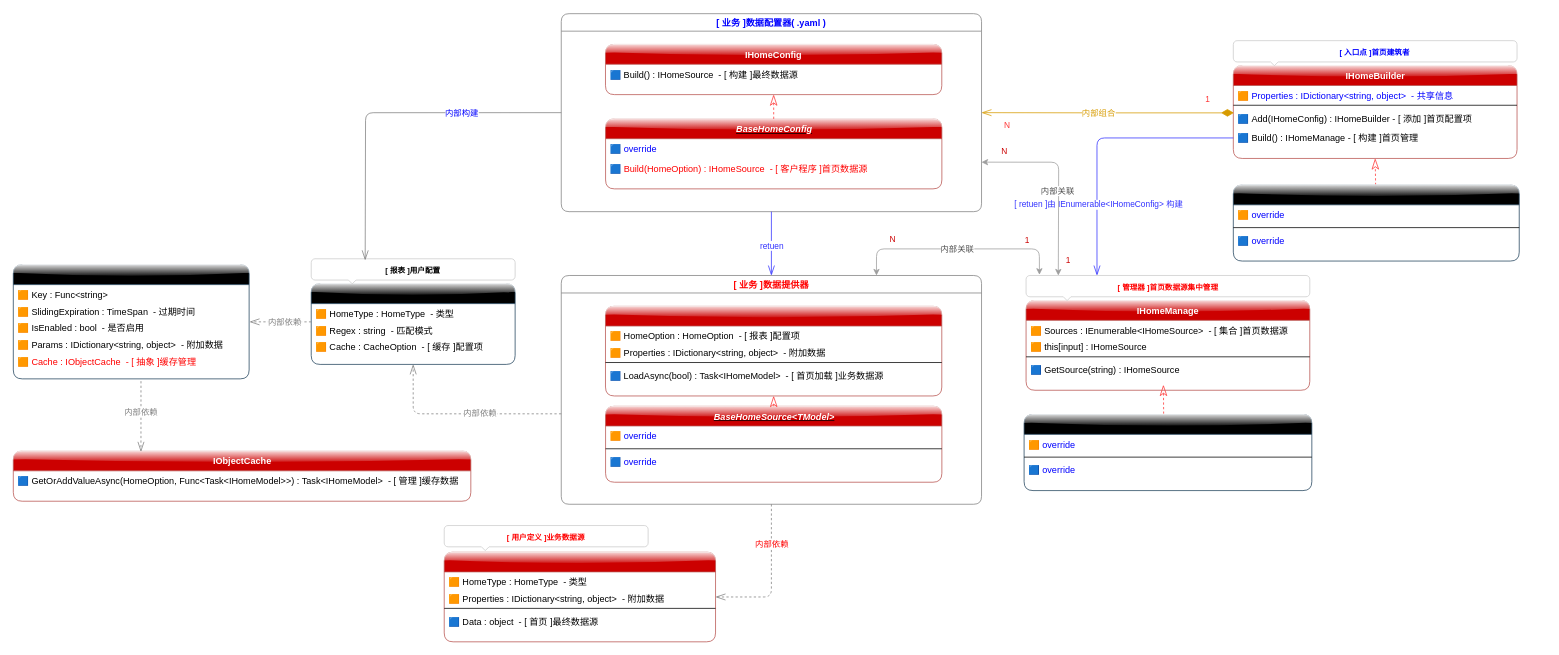
Some shapes in this 1559 by 655 pixel diagram are drawn without their labels. The shapes that lost their labels are listed below. From the top down, each one's box as (x1, y1, x2, y2) in pixels, then its label:
(1233, 184, 1519, 261): HomeBuilder
(13, 264, 249, 379): CacheOption
(310, 283, 515, 364): HomeOption
(605, 306, 942, 396): IHomeSource
(1023, 414, 1312, 491): HomeManage
(443, 551, 716, 642): IHomeModel
